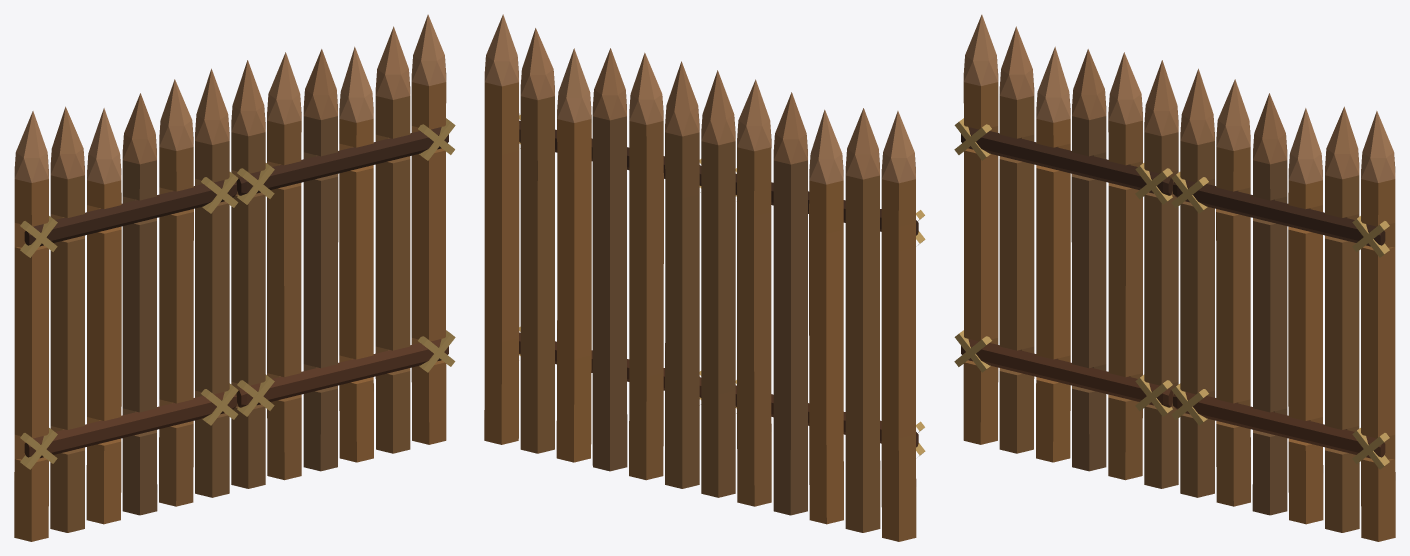
Rendered from palisade-wall-621e29.glb.
The picture shows the model from 3 angles, left to right: view 1: azimuth 30°, elevation 25°; view 2: azimuth 150°, elevation 25°; view 3: azimuth 330°, elevation 25°; orthographic projection.
Parts seen in each view (by area): view 1: palisade-body; view 2: palisade-body; view 3: palisade-body.
Part boxes in pixels (x1=…): palisade-body: x1=14, y1=14, x2=455, y2=541; palisade-body: x1=484, y1=14, x2=925, y2=541; palisade-body: x1=954, y1=14, x2=1395, y2=541.
Size of the model in its own units: 2.99 by 2.79 by 0.2276.
